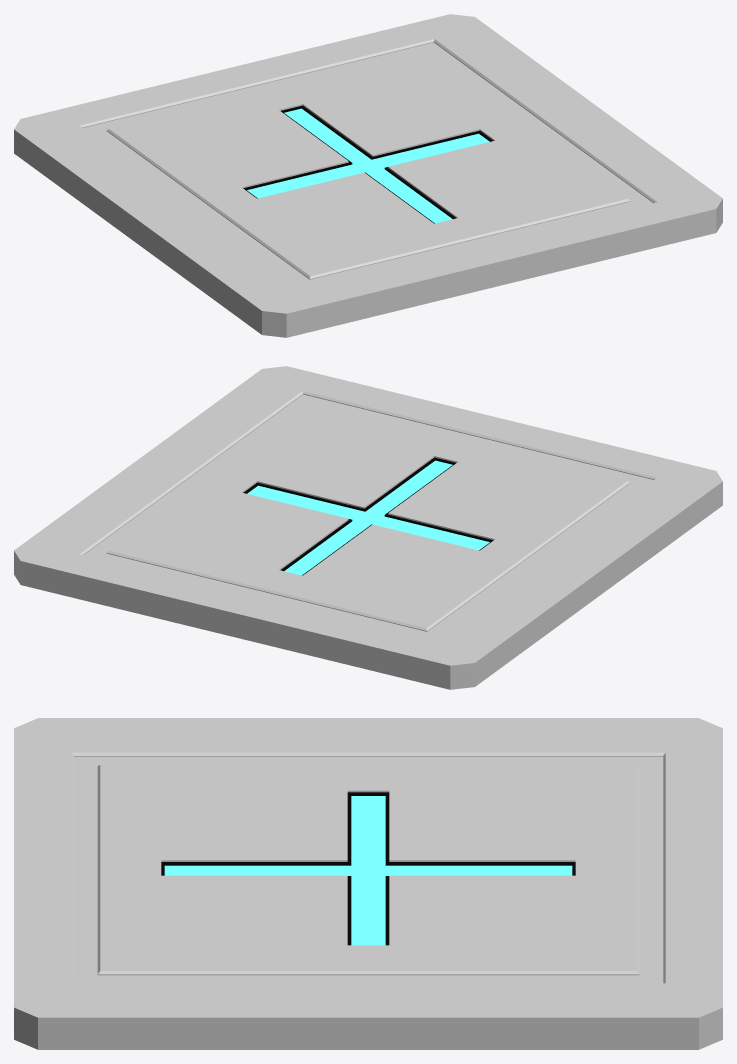
File: floor_line_cross.glb
3 renders of one model, top to bottom at view 1: azimuth 30°, elevation 25°; view 2: azimuth 150°, elevation 25°; view 3: azimuth 270°, elevation 25°, orthographic. The views are drawn at different scales.
Visible parts, largest first — view 1: SM_Floor_Line_Cross.001; view 2: SM_Floor_Line_Cross.001; view 3: SM_Floor_Line_Cross.001.
Part boxes in pixels (x1,y1,x2,y2): SM_Floor_Line_Cross.001: (14, 14, 722, 337); SM_Floor_Line_Cross.001: (14, 366, 722, 689); SM_Floor_Line_Cross.001: (14, 718, 722, 1049).
Bounding box in the file's own units: 1 × 0.05 × 1.
